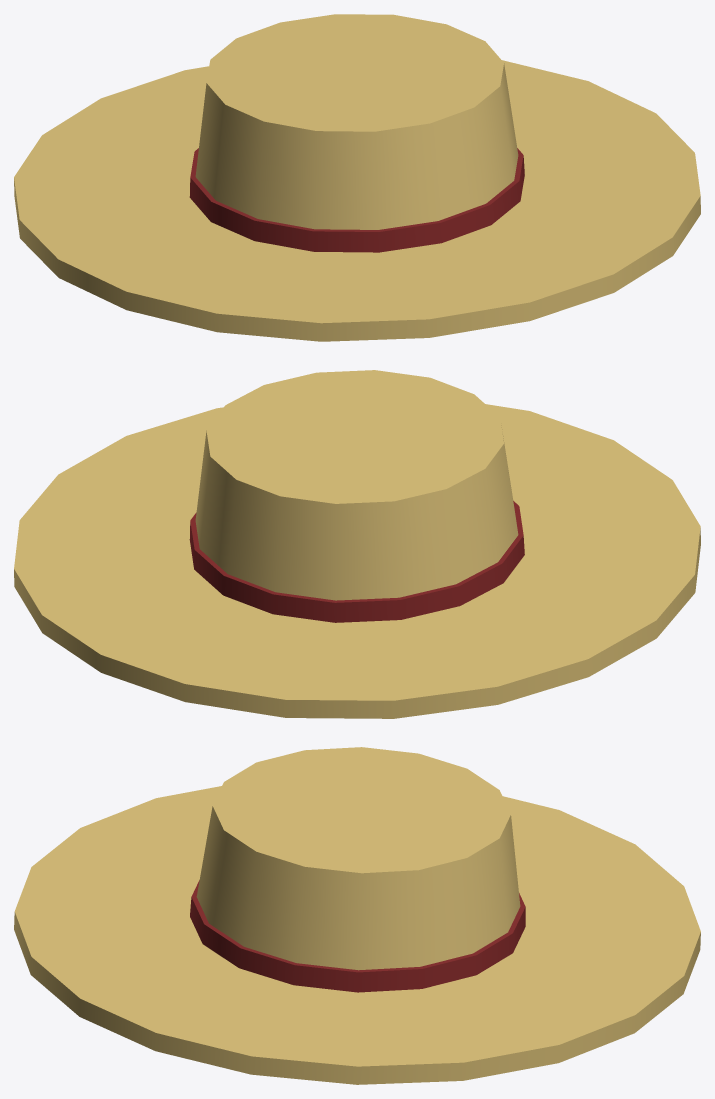
The model's file is straw_hat_f.glb.
3 views of the same model, one above another, from view 1: azimuth 30°, elevation 25°; view 2: azimuth 150°, elevation 25°; view 3: azimuth 270°, elevation 25° (orthographic).
Visible parts, largest first — view 1: straw_hat_f; view 2: straw_hat_f; view 3: straw_hat_f.
Part boxes in pixels (x1,y1,x2,y2): straw_hat_f: (14,14,700,341); straw_hat_f: (14,370,700,718); straw_hat_f: (14,747,700,1084).
Size of the model in its own units: 0.4088 by 0.0947 by 0.409.
